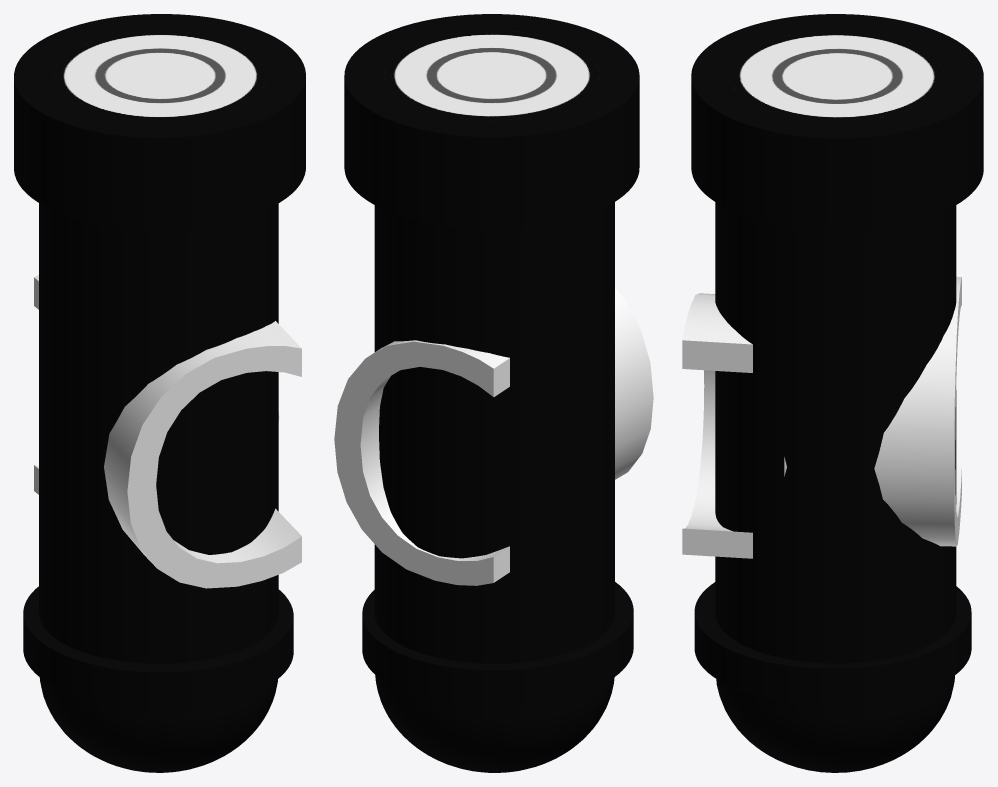
File: Multiple Choice C.fbx
3 views of the same model, side by side, from view 1: azimuth 30°, elevation 25°; view 2: azimuth 150°, elevation 25°; view 3: azimuth 270°, elevation 25° (orthographic).
Visible parts, largest first — view 1: node_id32, node_id34, node_id203, node_id36, node_id30; view 2: node_id32, node_id34, node_id180, node_id36, node_id30, node_id203; view 3: node_id32, node_id34, node_id36, node_id180, node_id30, node_id203.
Boxes of the visible parts, box(x1,y1,x2,y2) form: node_id32: box(39, 203, 278, 715); node_id34: box(14, 14, 305, 229); node_id203: box(104, 321, 301, 588); node_id36: box(23, 586, 293, 708); node_id30: box(39, 677, 277, 772); node_id32: box(374, 202, 614, 716); node_id34: box(344, 14, 639, 229); node_id180: box(334, 340, 509, 585); node_id36: box(362, 582, 633, 706); node_id30: box(375, 675, 614, 772); node_id203: box(615, 288, 653, 479); node_id32: box(715, 202, 956, 715); node_id34: box(691, 14, 983, 230); node_id36: box(694, 582, 971, 705); node_id180: box(874, 276, 961, 546); node_id30: box(716, 675, 954, 772); node_id203: box(682, 293, 752, 558).
Bounding box in the file's own units: 5.25 × 13.46 × 5.37.
Materials: 5 (1 with a texture image).
